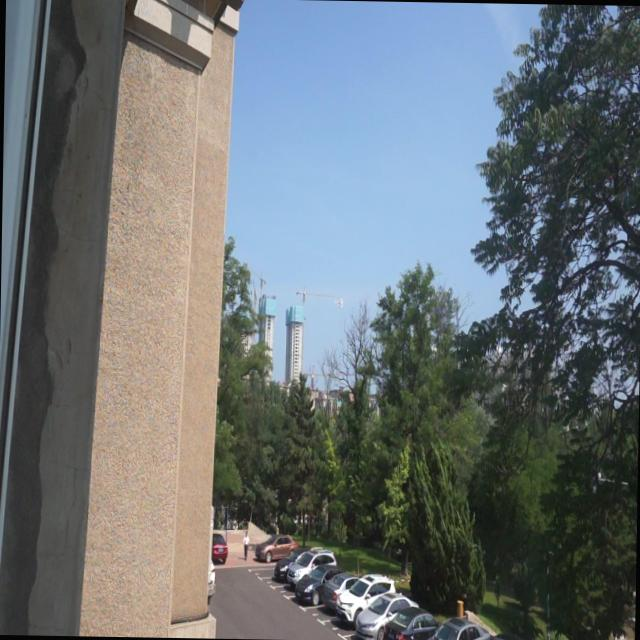drone: (332, 292, 348, 310)
